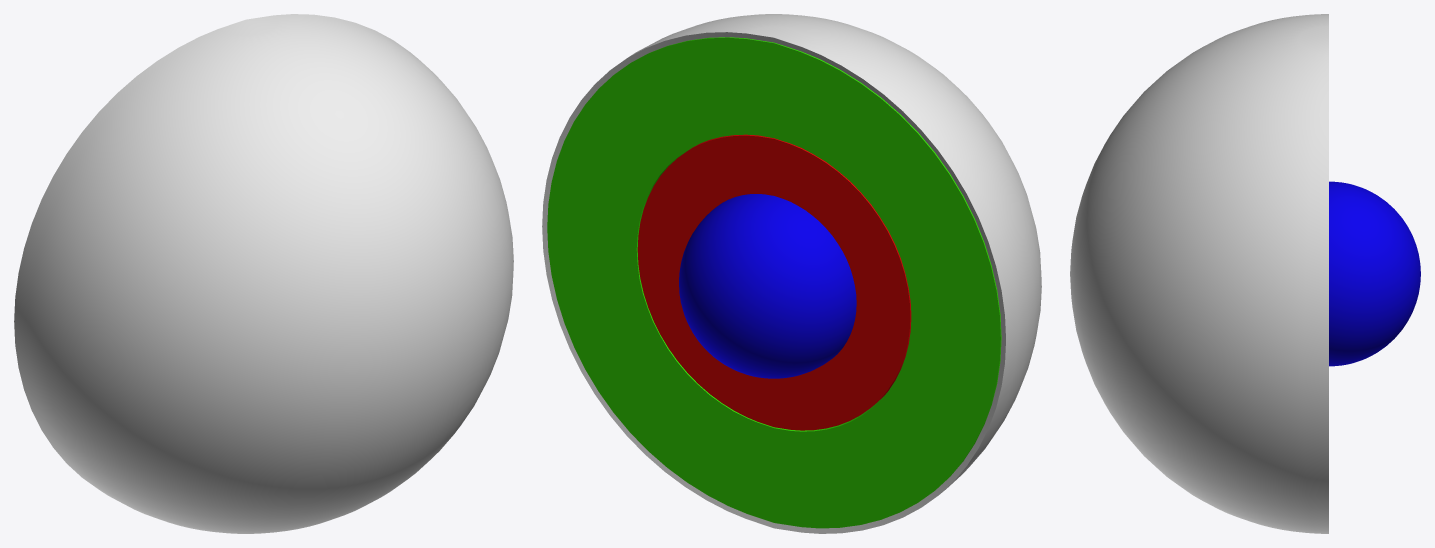
File: Earth.fbx
3 views of the same model, side by side, from view 1: azimuth 30°, elevation 25°; view 2: azimuth 150°, elevation 25°; view 3: azimuth 270°, elevation 25° (orthographic). The views are drawn at different scales.
Parts seen in each view (by area): view 1: Crust; view 2: Mantle, Core, Crust, Inner Core; view 3: Crust, Inner Core.
Part boxes in pixels (left/top/right/bottom): Crust: left=14, top=14, right=513, bottom=533; Mantle: left=547, top=37, right=1001, bottom=528; Core: left=637, top=134, right=911, bottom=430; Crust: left=542, top=14, right=1041, bottom=533; Inner Core: left=679, top=194, right=856, bottom=378; Crust: left=1070, top=14, right=1328, bottom=533; Inner Core: left=1329, top=181, right=1420, bottom=366.
Bounding box in the file's own units: 556 × 561 × 377.
